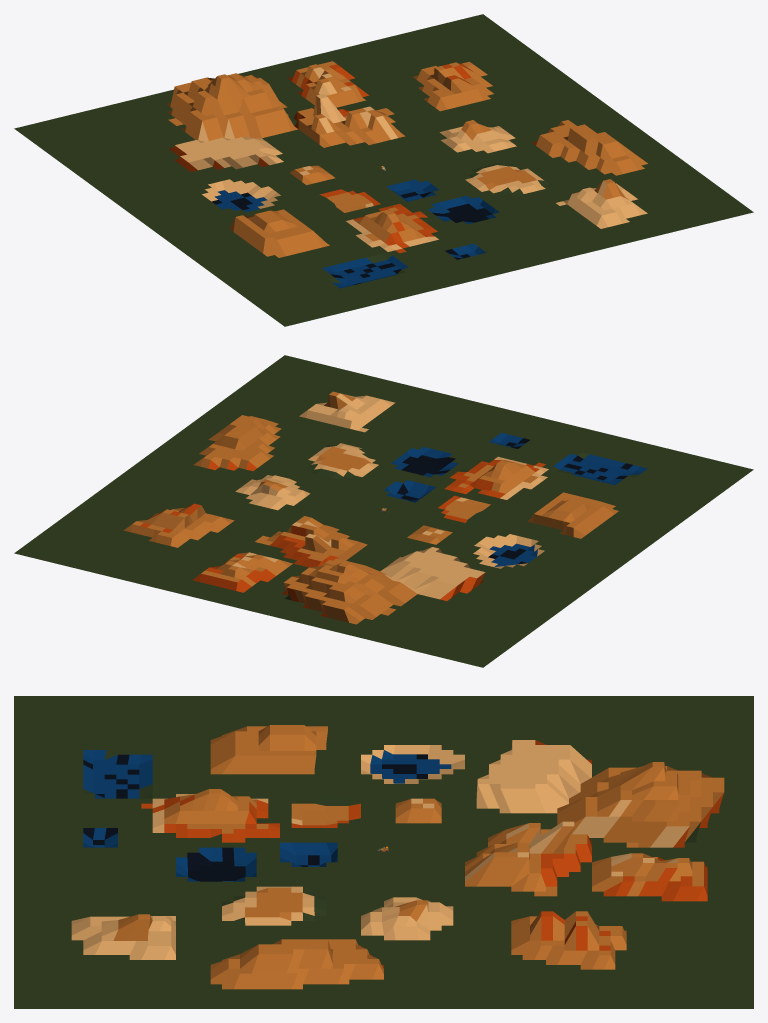
Rendered from ZombieCarScene.glb.
The picture shows the model from 3 angles, top to bottom: view 1: azimuth 30°, elevation 25°; view 2: azimuth 150°, elevation 25°; view 3: azimuth 270°, elevation 25°; orthographic projection. The views are drawn at different scales.
Visible parts, largest first — view 1: Ground; view 2: Ground; view 3: Ground.
Boxes of the visible parts, bbox=[...] form: Ground: bbox=[14, 14, 753, 326]; Ground: bbox=[14, 355, 753, 667]; Ground: bbox=[14, 696, 753, 1008].
Bounding box in the file's own units: 160 × 13.29 × 160.
Materials: 8 (1 with a texture image).
